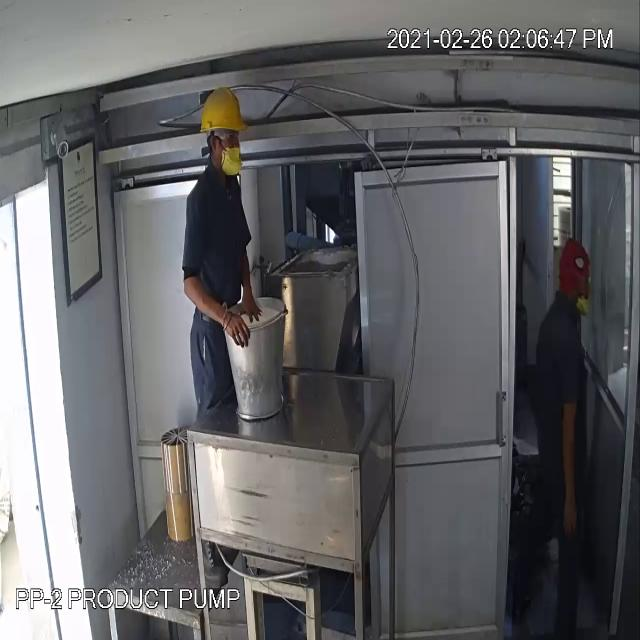Hardhat: (201, 87, 248, 132)
Mask: (221, 147, 242, 176)
No Glove: (241, 268, 260, 318), (226, 313, 248, 346)
Safety Boots: (202, 542, 229, 589), (222, 548, 238, 563)
